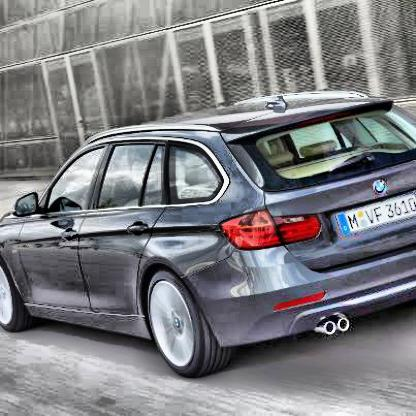BMW 3 Series Wagon 2012: (2, 92, 416, 382)
